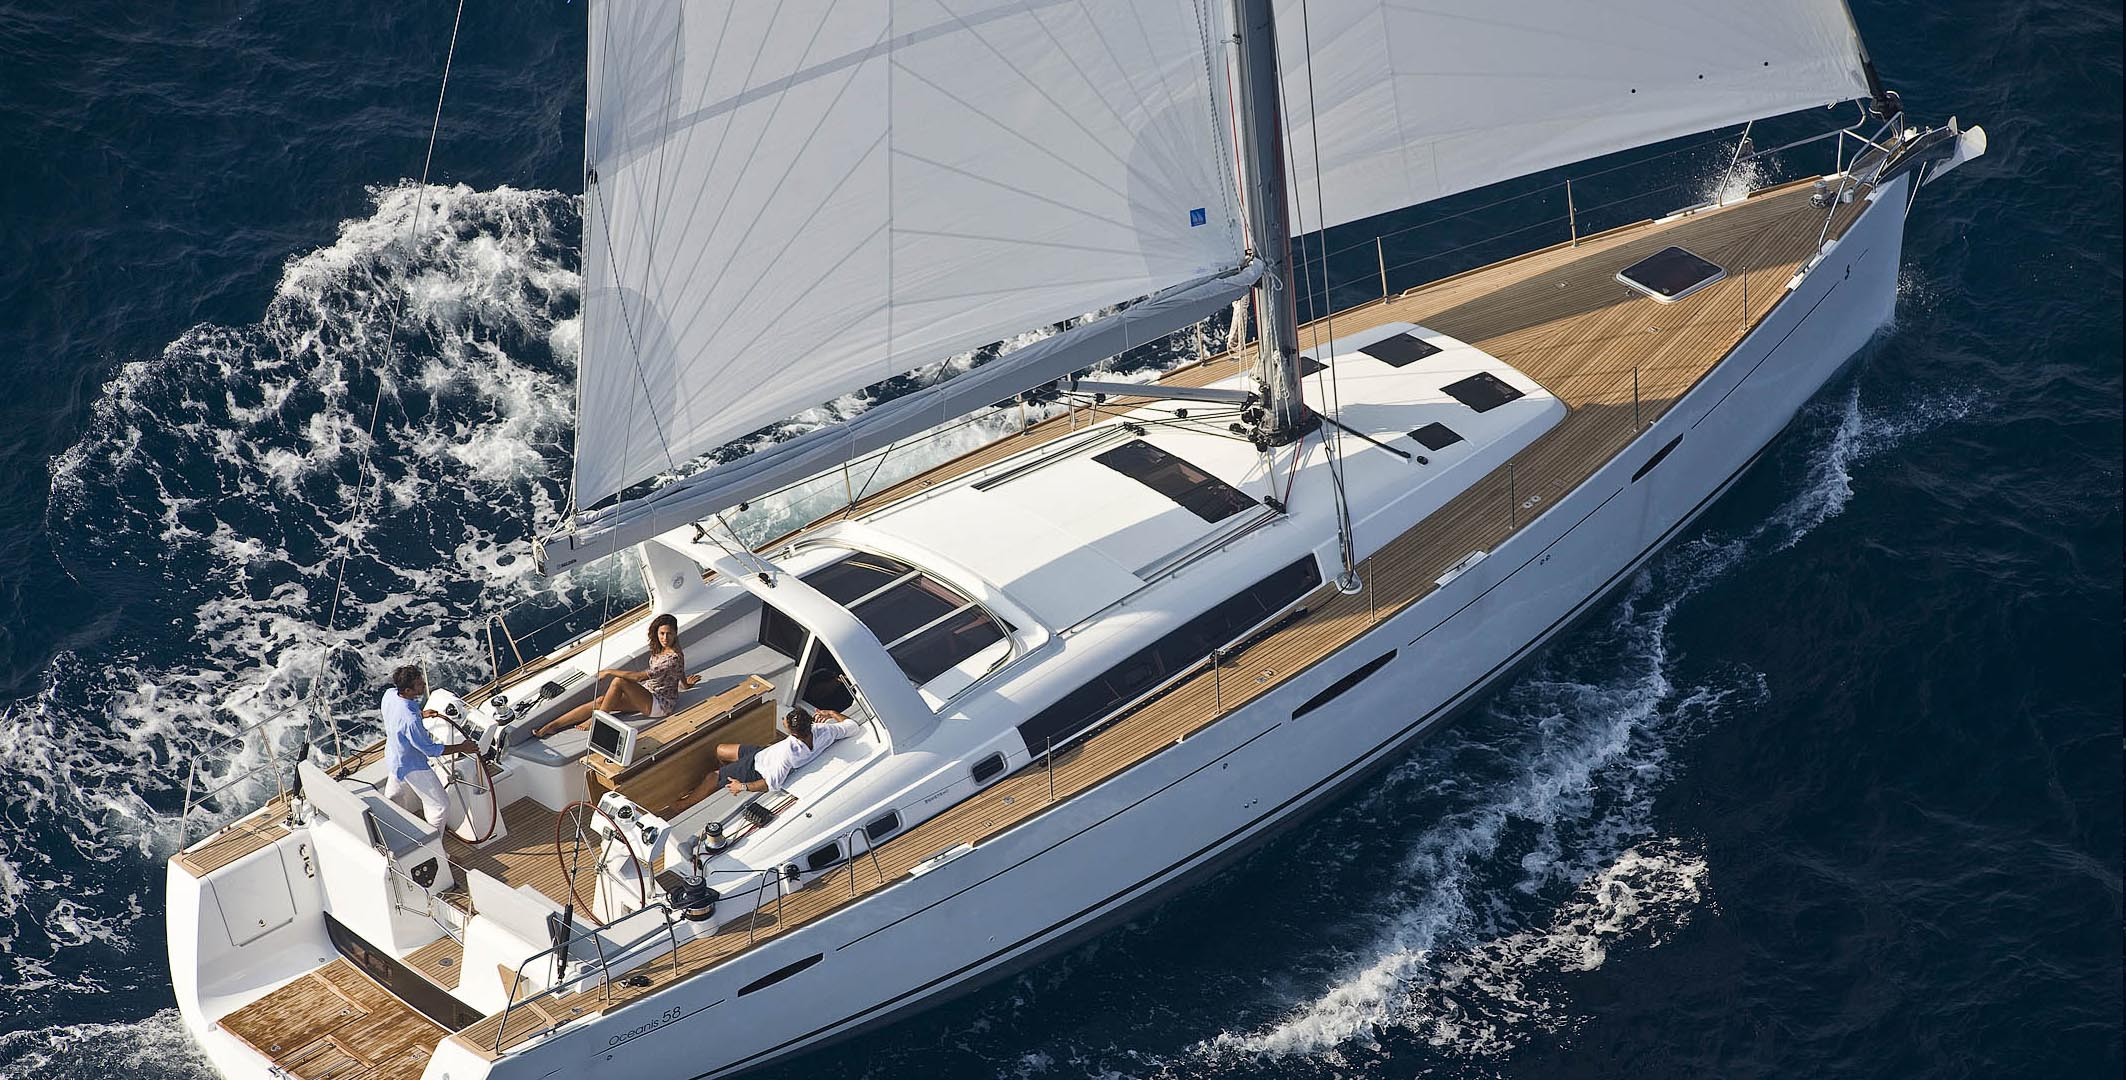boat: (162, 3, 1993, 1080)
person: (534, 613, 688, 746), (379, 670, 493, 839), (696, 711, 857, 791)
